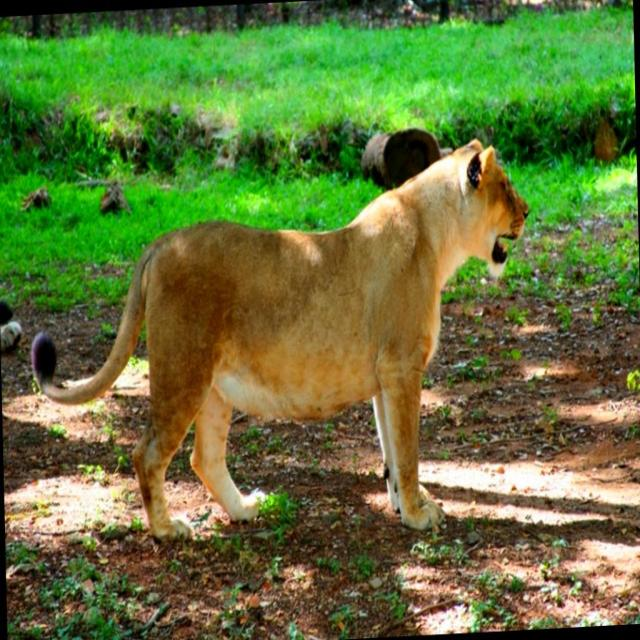Lion: (27, 135, 539, 552)
